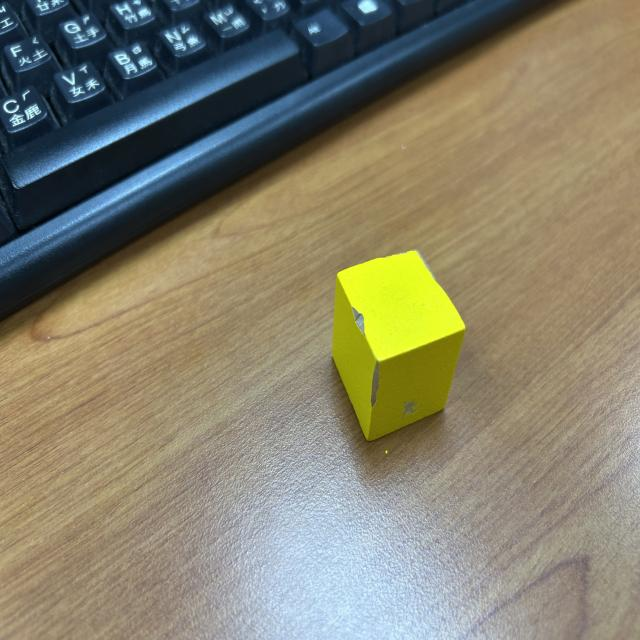broken: (332, 250, 464, 440)
